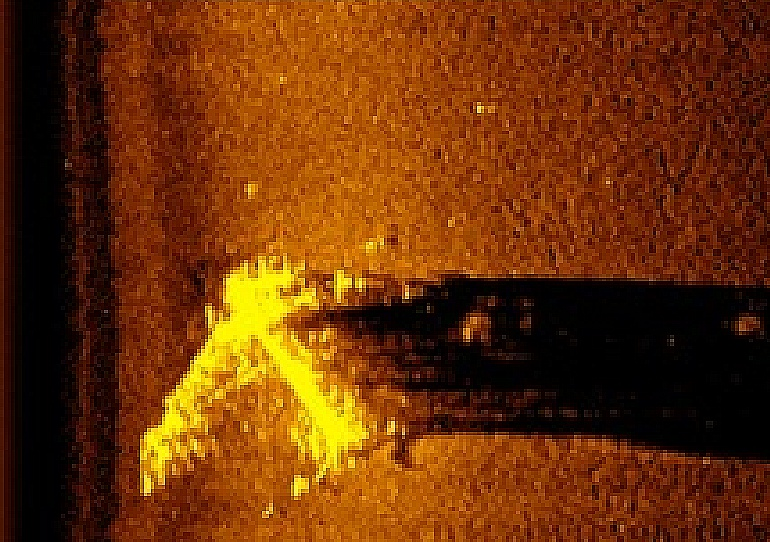aircraft: (137, 246, 442, 499)
